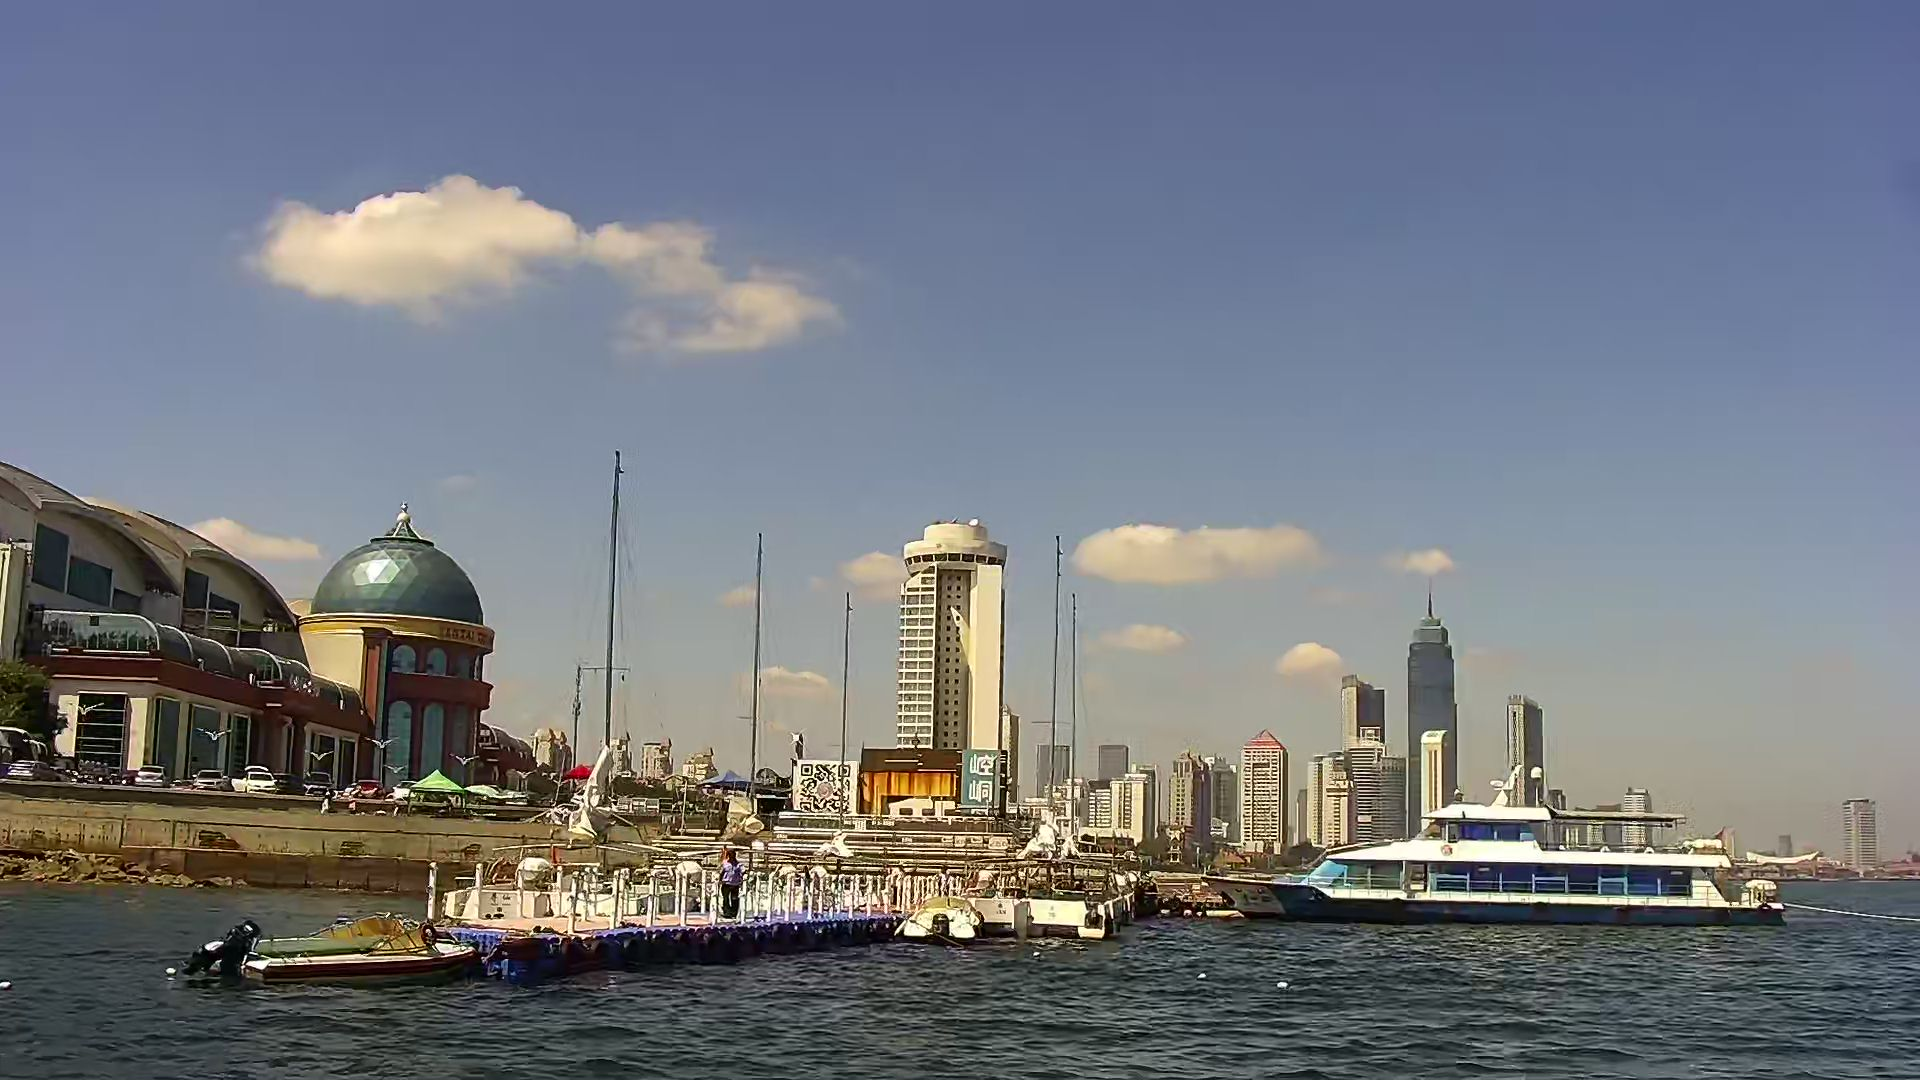boat: (439, 441, 682, 916), (982, 525, 1143, 943), (257, 909, 473, 999), (898, 885, 995, 962)
harbor: (443, 854, 905, 968)
person: (183, 913, 255, 974)
rubbish: (1273, 966, 1305, 997)
ship: (1202, 759, 1807, 924)
